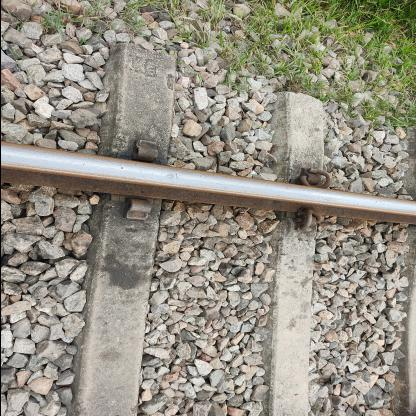Defective 1: (104, 190, 162, 232), (112, 132, 171, 172)
Non Defective 1: (278, 205, 336, 246), (282, 156, 340, 197)
